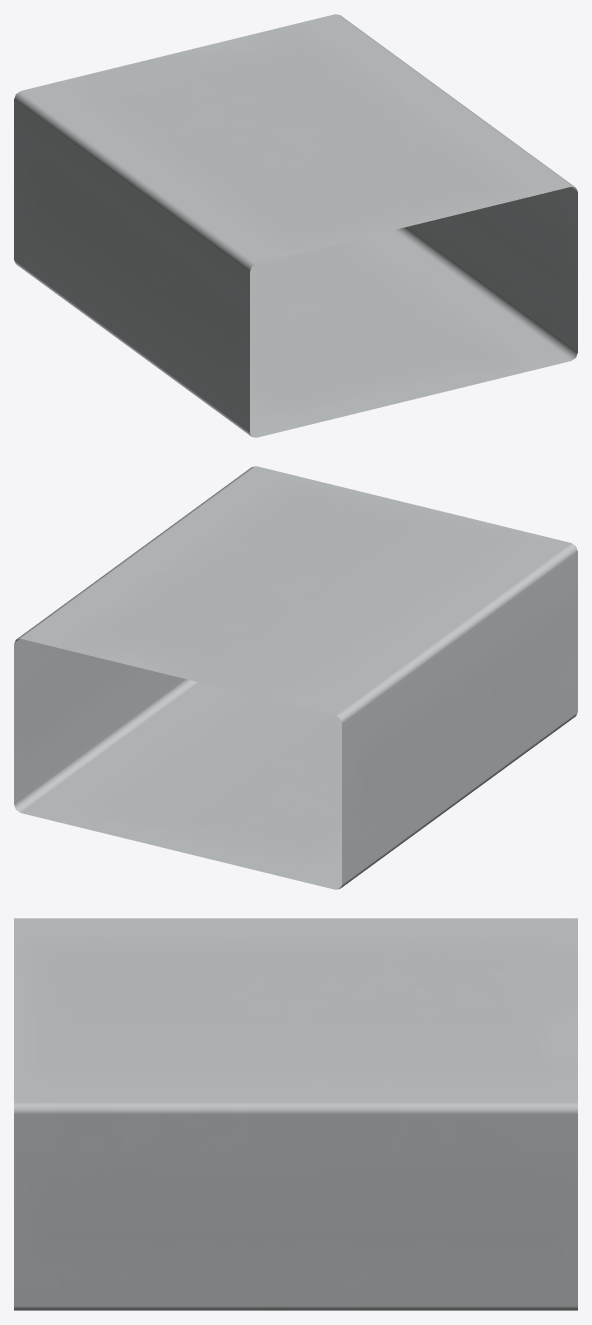
File: straight.gltf
3 renders of one model, top to bottom at view 1: azimuth 30°, elevation 25°; view 2: azimuth 150°, elevation 25°; view 3: azimuth 270°, elevation 25°, orthographic. The views are drawn at different scales.
Visible parts, largest first — view 1: straight; view 2: straight; view 3: straight.
Part boxes in pixels (x1=…): straight: x1=14, y1=14, x2=577, y2=437; straight: x1=14, y1=466, x2=577, y2=889; straight: x1=14, y1=918, x2=577, y2=1310.
Size of the model in its own units: 0.7569 by 0.384 by 0.9422.
Materials: 1 (1 with a texture image).
